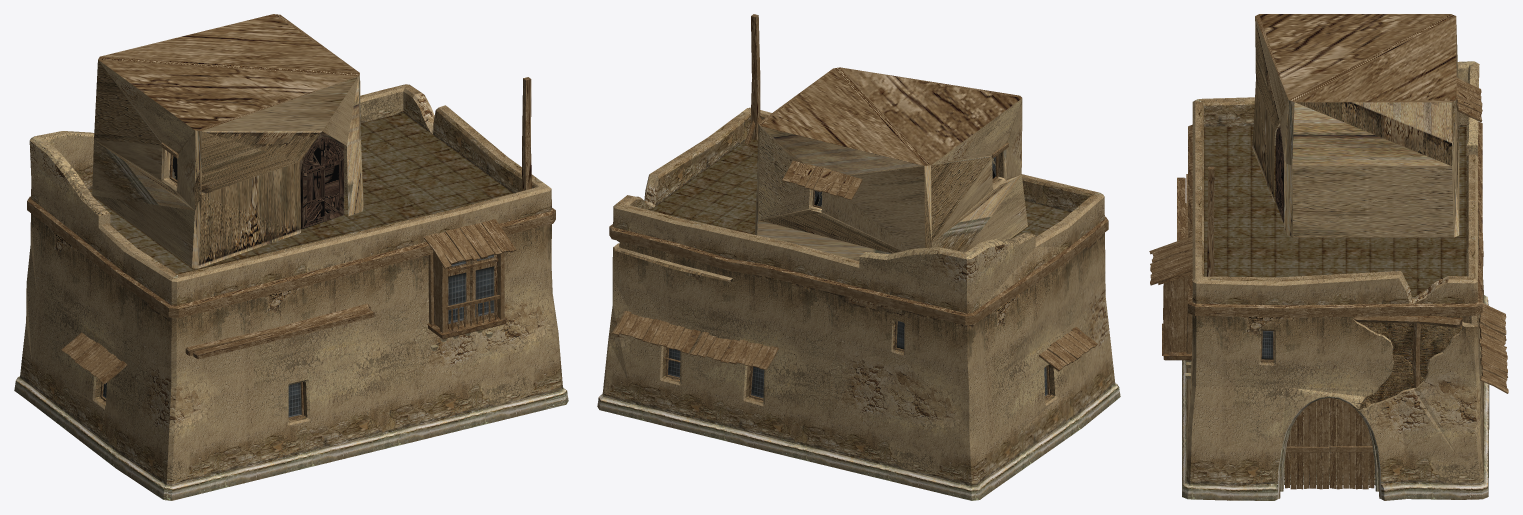
File: oriental_houses_03_LOD2.dae
The picture shows the model from 3 angles, left to right: view 1: azimuth 30°, elevation 25°; view 2: azimuth 150°, elevation 25°; view 3: azimuth 270°, elevation 25°; orthographic projection. The views are drawn at different scales.
Visible parts, largest first — view 1: Mesh_Object, Mesh_Object_2; view 2: Mesh_Object, Mesh_Object_2; view 3: Mesh_Object, Mesh_Object_2.
Boxes of the visible parts, x1,y1,x2,y2 form: Mesh_Object: [14, 84, 568, 500]; Mesh_Object_2: [92, 14, 532, 268]; Mesh_Object: [597, 107, 1120, 500]; Mesh_Object_2: [744, 14, 1027, 260]; Mesh_Object: [1149, 61, 1508, 500]; Mesh_Object_2: [1207, 14, 1482, 276].
Bounding box in the file's own units: 432 × 315 × 318.
